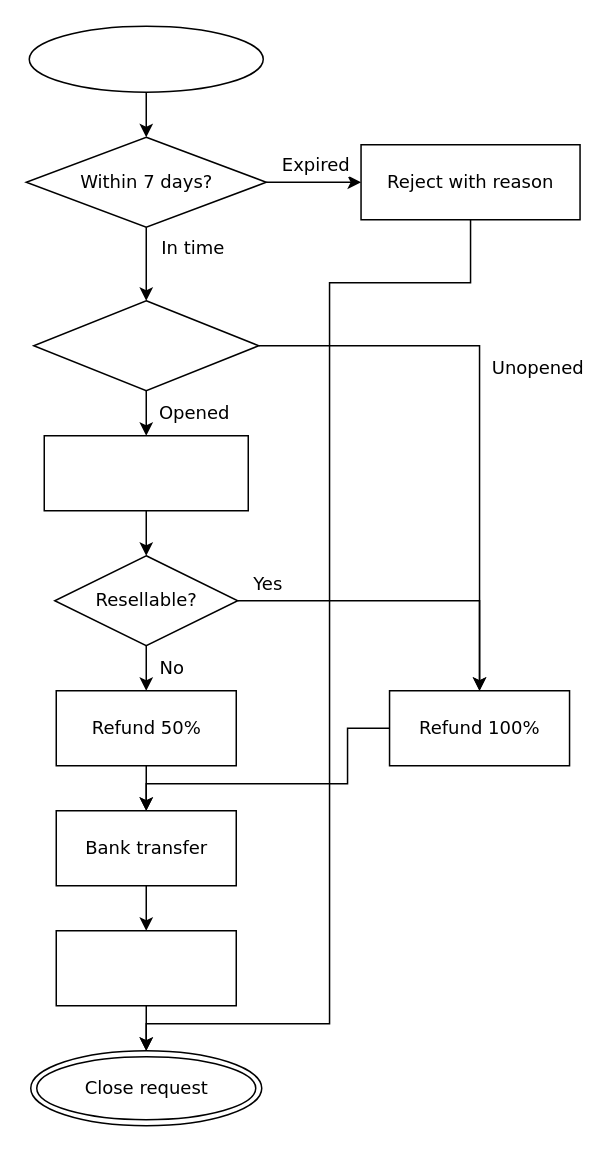
This 611x1152 diagram has some shape labels left out. The centre of each missing label's shape, as x and y in pixels:
"Inspect condition" belongs at (145,472).
"Item opened?" belongs at (145,345).
"Refund request" belongs at (145,58).
"Send receipt" belongs at (145,967).
